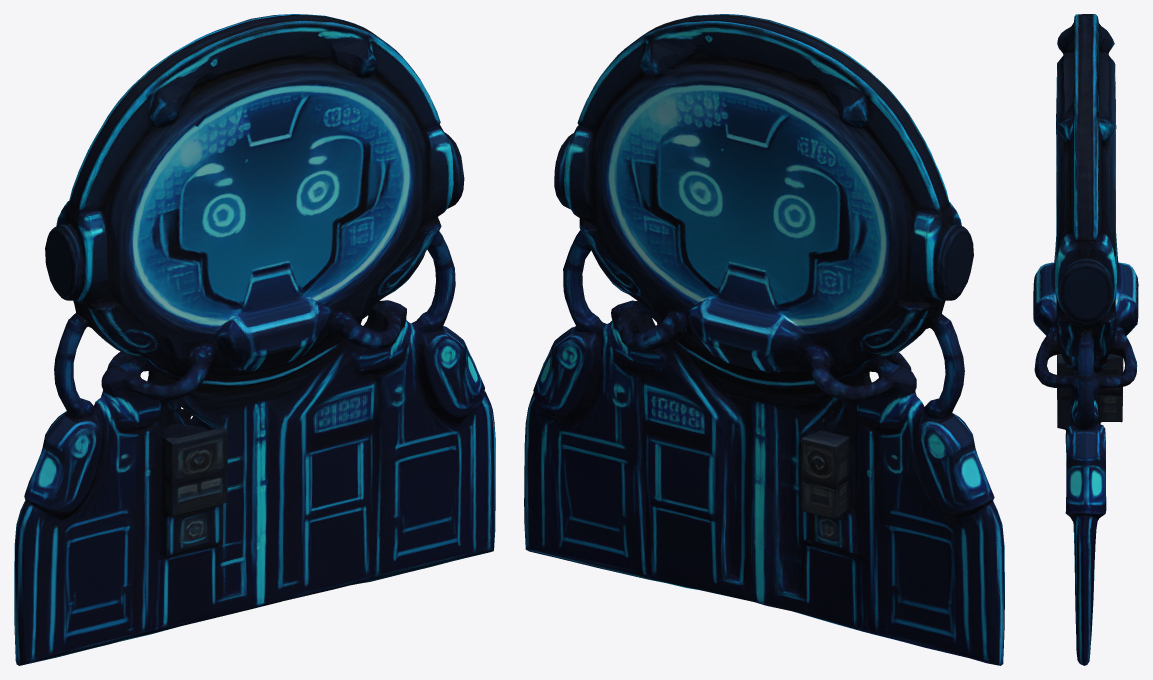
File: coder.glb
3 renders of one model, left to right at view 1: azimuth 30°, elevation 25°; view 2: azimuth 150°, elevation 25°; view 3: azimuth 270°, elevation 25°, orthographic. The views are drawn at different scales.
Visible parts, largest first — view 1: world; view 2: world; view 3: world.
Part boxes in pixels (x1,y1,x2,y2): world: (14, 14, 495, 665); world: (524, 14, 1004, 665); world: (1033, 14, 1138, 665).
Size of the model in its own units: 0.8533 by 0.9955 by 0.18.
1 material, 1 textured.
